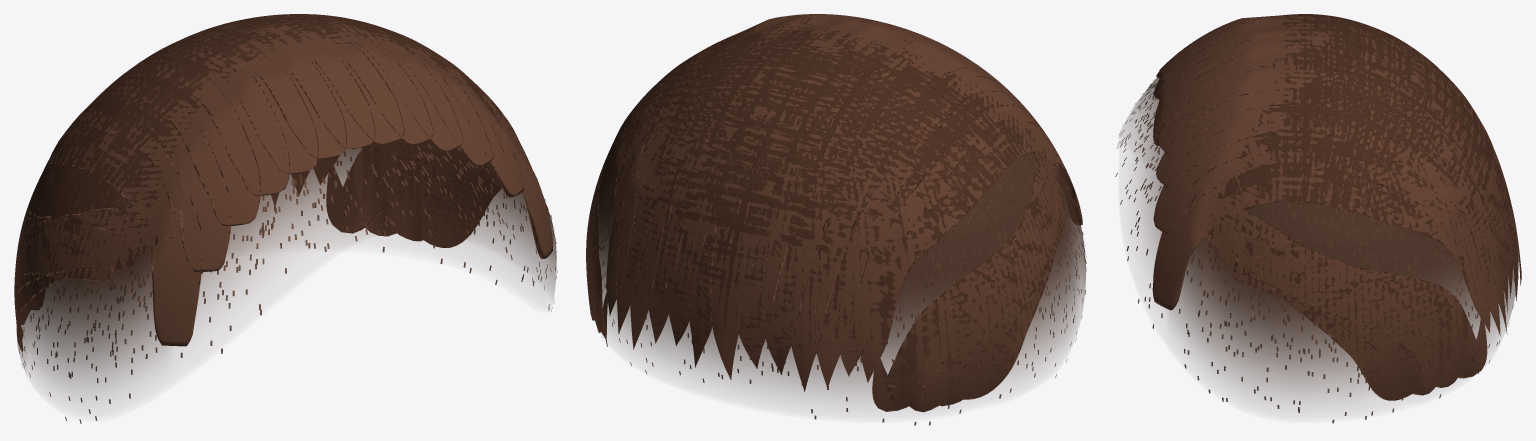
The model's file is Masculine-flow-pashmina-hair.glb.
The picture shows the model from 3 angles, left to right: view 1: azimuth 30°, elevation 25°; view 2: azimuth 150°, elevation 25°; view 3: azimuth 270°, elevation 25°; orthographic projection. The views are drawn at different scales.
Visible parts, largest first — view 1: 226 hair / Hair / chestnut226.001, 226 hair / Hair / neutral coverage235.001, 226 hair / Hair / cut grain235.001; view 2: 226 hair / Hair / chestnut226.001, 226 hair / Hair / neutral coverage235.001, 226 hair / Hair / cut grain235.001; view 3: 226 hair / Hair / neutral coverage235.001, 226 hair / Hair / chestnut226.001, 226 hair / Hair / cut grain235.001.
Part boxes in pixels (x1,y1,x2,y2): 226 hair / Hair / chestnut226.001: (14, 14, 552, 351); 226 hair / Hair / neutral coverage235.001: (14, 14, 556, 401); 226 hair / Hair / cut grain235.001: (14, 80, 557, 423); 226 hair / Hair / chestnut226.001: (586, 14, 1082, 412); 226 hair / Hair / neutral coverage235.001: (586, 22, 1085, 405); 226 hair / Hair / cut grain235.001: (586, 80, 1086, 425); 226 hair / Hair / neutral coverage235.001: (1120, 14, 1518, 405); 226 hair / Hair / chestnut226.001: (1152, 14, 1521, 400); 226 hair / Hair / cut grain235.001: (1115, 72, 1519, 423).
Size of the model in its own units: 0.9596 by 0.6126 by 0.7749.
